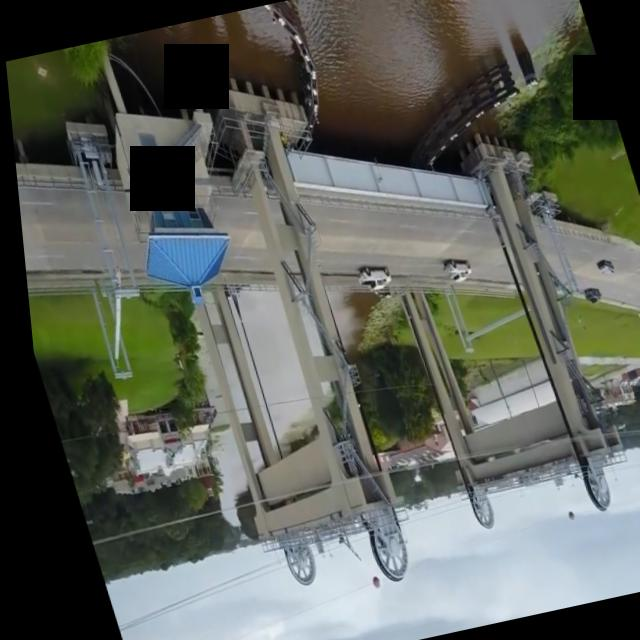Building: (114, 71, 436, 611), (347, 121, 635, 548), (79, 61, 266, 328), (17, 108, 174, 401)
Vehicle: (343, 248, 395, 310), (430, 246, 481, 306), (570, 274, 605, 318), (582, 248, 616, 289), (640, 261, 640, 291)
